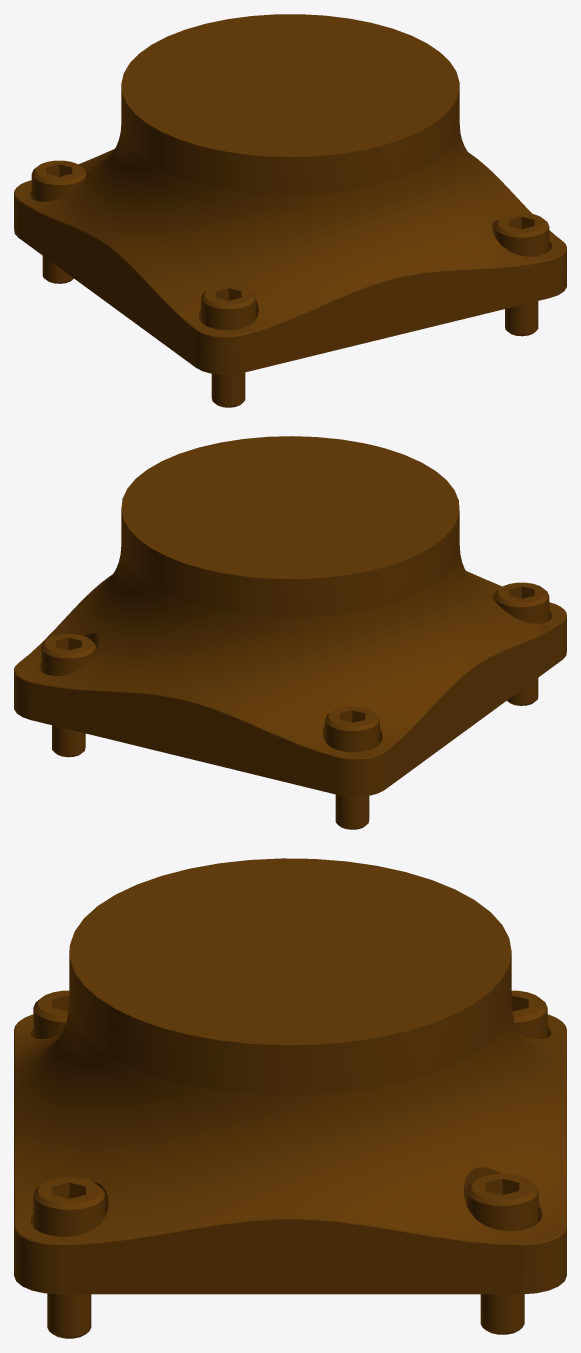
3 renders of one model, top to bottom at view 1: azimuth 30°, elevation 25°; view 2: azimuth 150°, elevation 25°; view 3: azimuth 270°, elevation 25°, orthographic. The views are drawn at different scales.
Parts seen in each view (by area): view 1: mesh_1_base_o; view 2: mesh_1_base_o; view 3: mesh_1_base_o.
Boxes of the visible parts, box(x1,y1,x2,y2) form: mesh_1_base_o: box(14, 14, 566, 407); mesh_1_base_o: box(14, 436, 566, 829); mesh_1_base_o: box(14, 858, 566, 1338).
Size of the model in its own units: 0.1 by 0.057 by 0.1.
